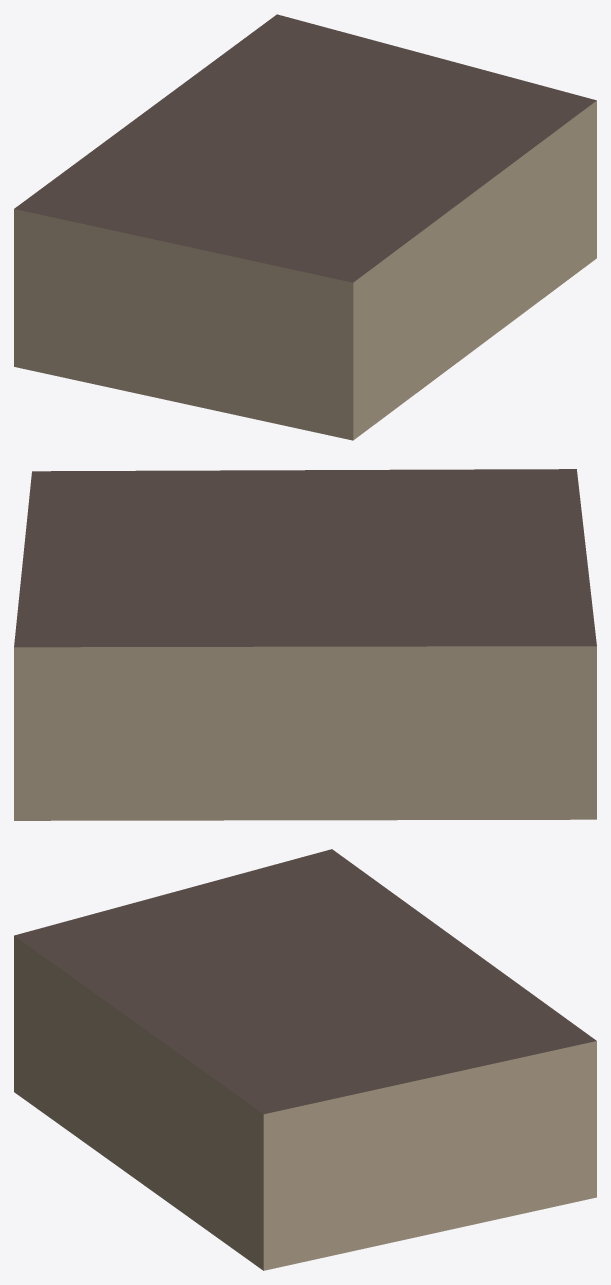
3 views of the same model, one above another, from view 1: azimuth 30°, elevation 25°; view 2: azimuth 150°, elevation 25°; view 3: azimuth 270°, elevation 25° (orthographic). The views are drawn at different scales.
Parts seen in each view (by area): view 1: HP-w1512359830; view 2: HP-w1512359830; view 3: HP-w1512359830.
Boxes of the visible parts, <box> form: HP-w1512359830: <box>14,14,596,440</box>; HP-w1512359830: <box>14,469,596,820</box>; HP-w1512359830: <box>14,849,596,1270</box>.
Size of the model in its own units: 32.71 by 9 by 30.38.
